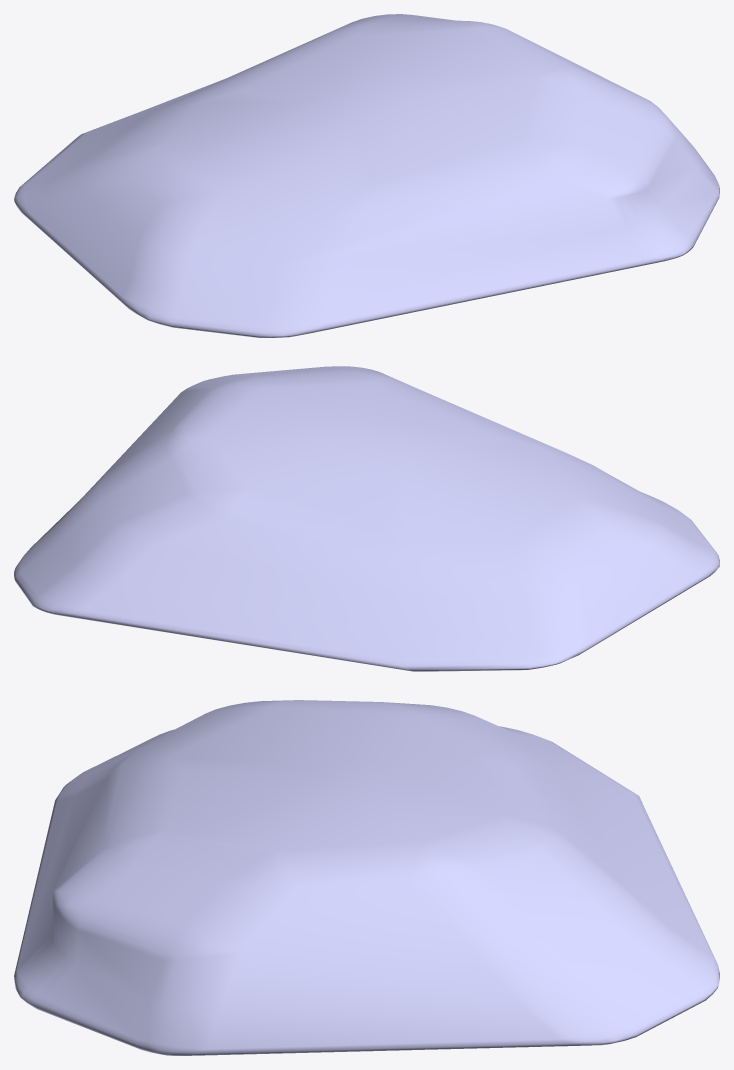
The model's file is SnowPile01.fbx.
3 renders of one model, top to bottom at view 1: azimuth 30°, elevation 25°; view 2: azimuth 150°, elevation 25°; view 3: azimuth 270°, elevation 25°, orthographic. The views are drawn at different scales.
Parts seen in each view (by area): view 1: SnowPile1; view 2: SnowPile1; view 3: SnowPile1.
Boxes of the visible parts, x1,y1,x2,y2 form: SnowPile1: [14, 14, 719, 337]; SnowPile1: [14, 366, 719, 671]; SnowPile1: [14, 700, 719, 1055].
Bounding box in the file's own units: 934 × 186 × 852.
